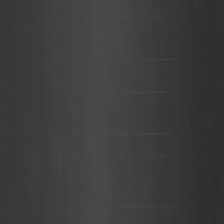waist_folding: (125, 20, 191, 206)
